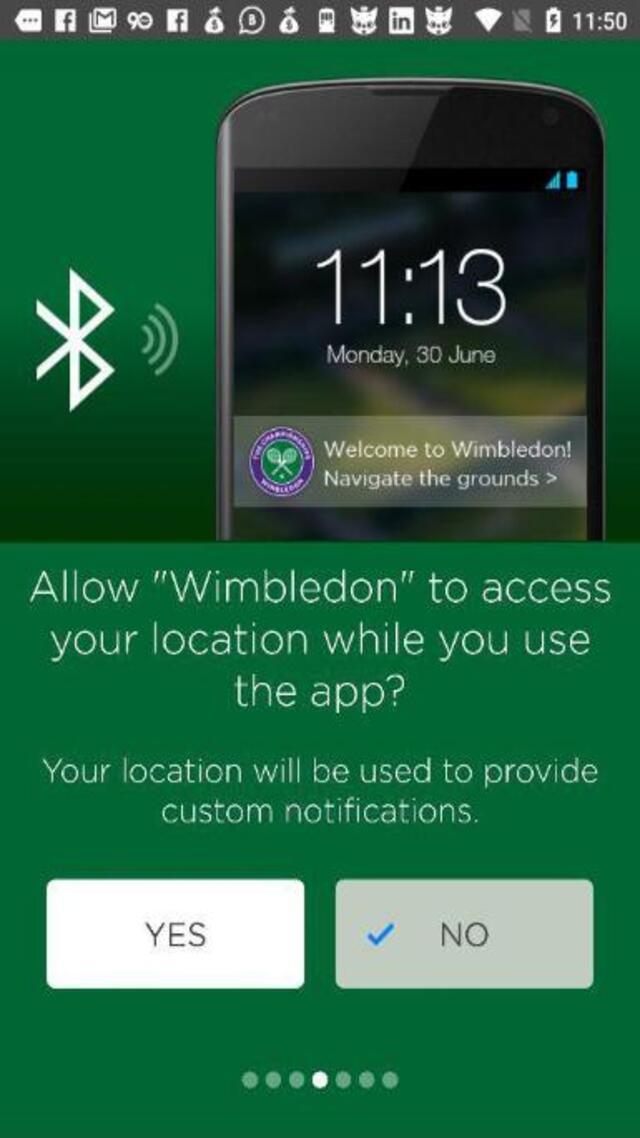Image: (0, 42, 638, 542)
Text: (42, 619, 596, 665), (28, 567, 615, 607), (42, 756, 602, 790), (154, 797, 482, 831), (226, 670, 408, 714), (433, 918, 493, 951), (140, 919, 208, 948)
TextButton: (45, 878, 304, 989), (334, 876, 594, 986)
